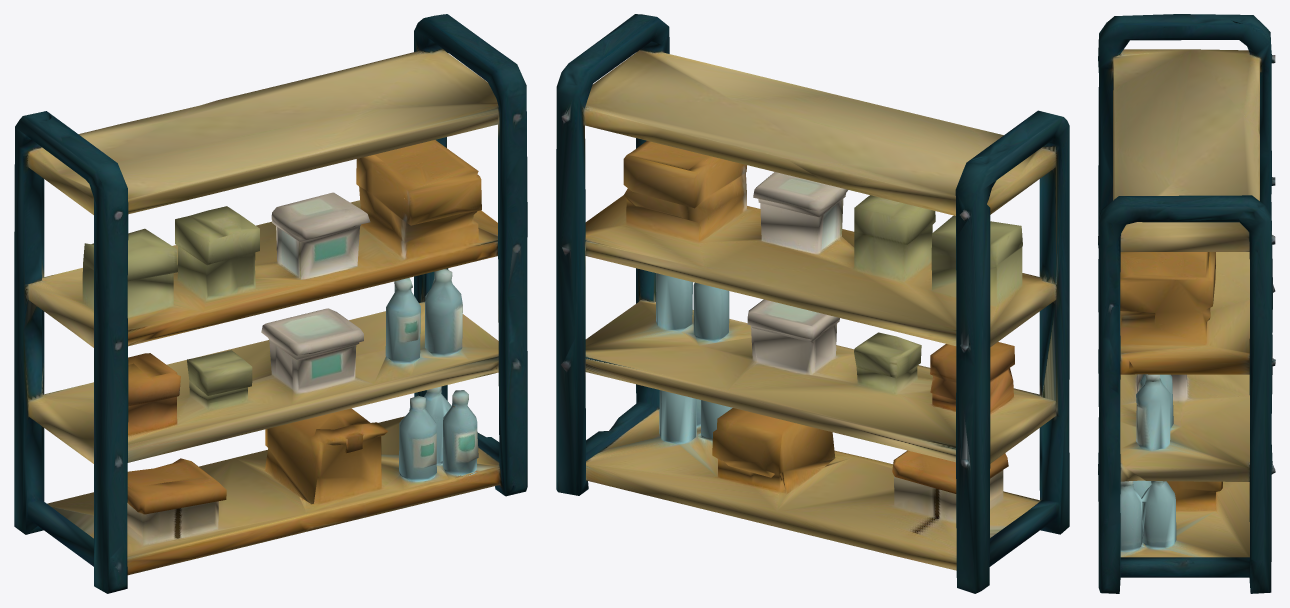
The model's file is mall_supply_shelf_3000.glb.
3 views of the same model, side by side, from view 1: azimuth 30°, elevation 25°; view 2: azimuth 150°, elevation 25°; view 3: azimuth 270°, elevation 25° (orthographic). The views are drawn at different scales.
Parts seen in each view (by area): view 1: tripo_node_d449995e-c884-4cf9-8cf3-45a8aac5e30c; view 2: tripo_node_d449995e-c884-4cf9-8cf3-45a8aac5e30c; view 3: tripo_node_d449995e-c884-4cf9-8cf3-45a8aac5e30c.
Part boxes in pixels (bbox=[...]): tripo_node_d449995e-c884-4cf9-8cf3-45a8aac5e30c: bbox=[14, 14, 527, 593]; tripo_node_d449995e-c884-4cf9-8cf3-45a8aac5e30c: bbox=[556, 14, 1069, 593]; tripo_node_d449995e-c884-4cf9-8cf3-45a8aac5e30c: bbox=[1098, 14, 1275, 593].
Size of the model in its own units: 0.982 by 0.9236 by 0.3823.
1 material, 1 textured.
